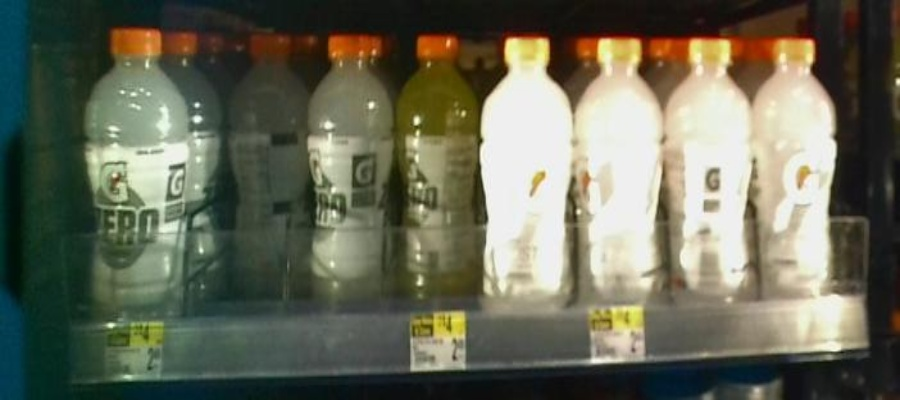bottle: (79, 23, 188, 313), (479, 37, 571, 300), (577, 38, 665, 305), (222, 30, 306, 301), (309, 27, 391, 301), (669, 33, 753, 296), (394, 32, 476, 290), (755, 37, 837, 293)
